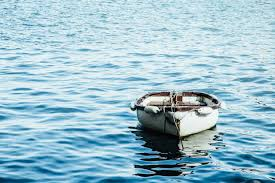boat: (128, 89, 221, 141)
